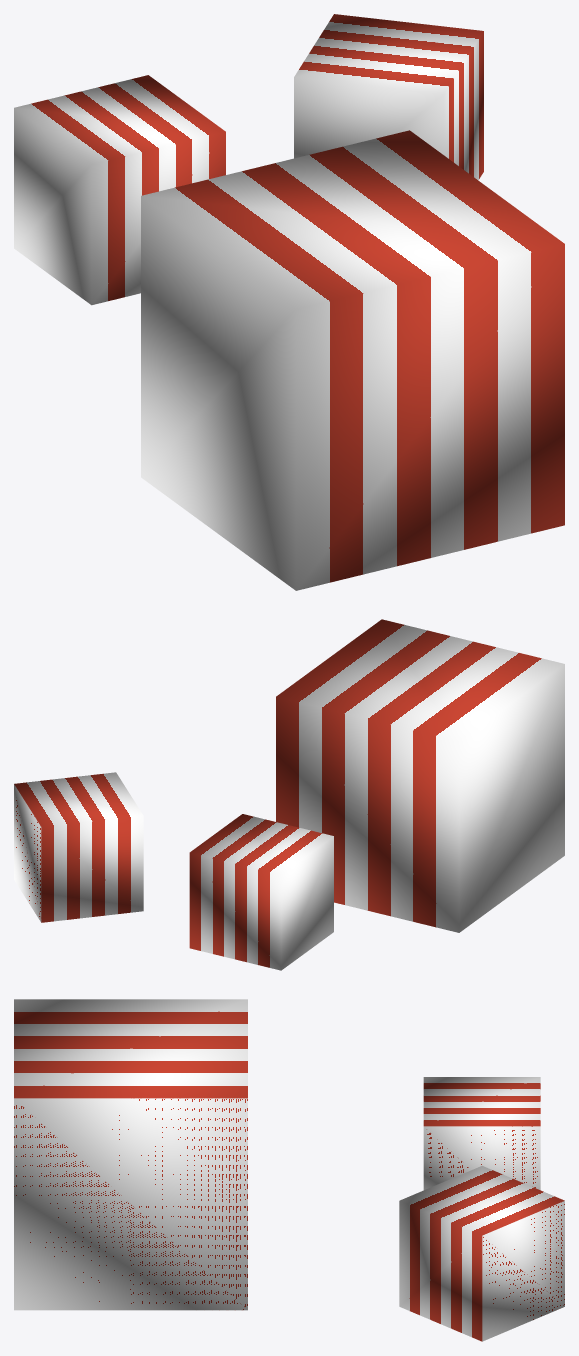
The model's file is robot_jerarquia.fbx.
3 views of the same model, one above another, from view 1: azimuth 30°, elevation 25°; view 2: azimuth 150°, elevation 25°; view 3: azimuth 270°, elevation 25° (orthographic). The views are drawn at different scales.
Parts seen in each view (by area): view 1: Cubo_C, Cubo_A, Cubo_B; view 2: Cubo_C, Cubo_A, Cubo_B; view 3: Cubo_C, Cubo_B, Cubo_A.
Boxes of the visible parts, <box> form: Cubo_C: <box>141,130,564,590</box>; Cubo_A: <box>14,75,225,305</box>; Cubo_B: <box>294,14,483,180</box>; Cubo_C: <box>276,619,564,932</box>; Cubo_A: <box>189,814,333,970</box>; Cubo_B: <box>14,772,143,922</box>; Cubo_C: <box>14,999,247,1310</box>; Cubo_B: <box>399,1165,564,1341</box>; Cubo_A: <box>423,1077,540,1190</box>.
Bounding box in the file's own units: 3.71 × 2 × 4.71.
1 material, 1 textured.
